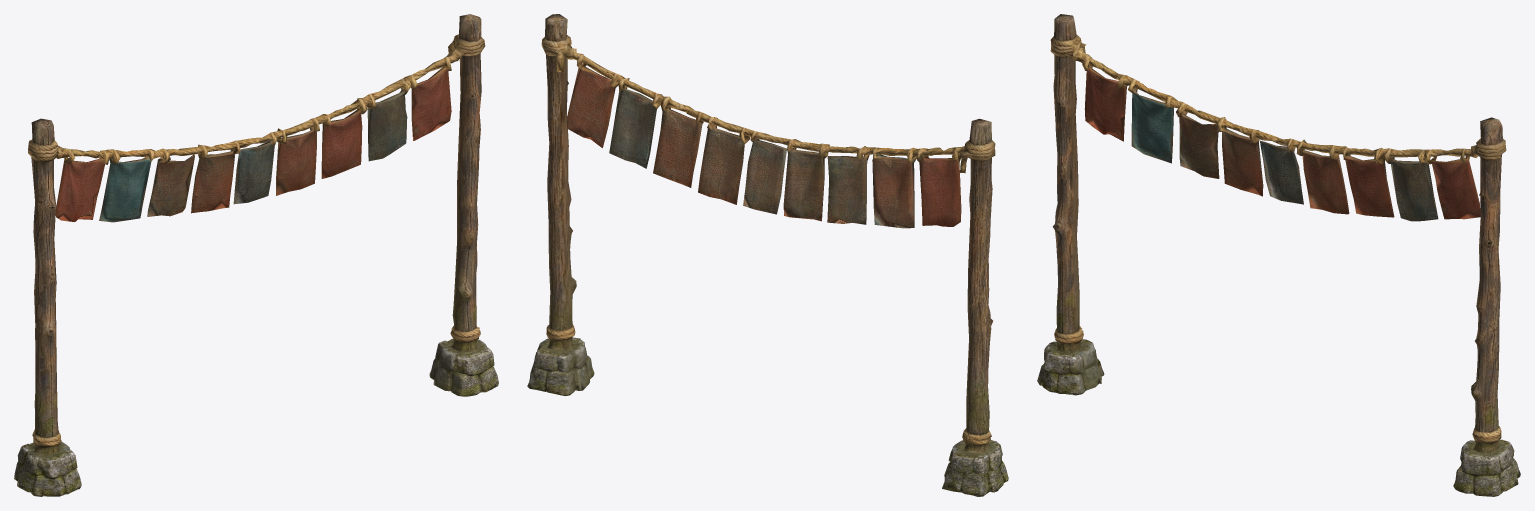
File: festival_mast.glb
3 views of the same model, side by side, from view 1: azimuth 30°, elevation 25°; view 2: azimuth 150°, elevation 25°; view 3: azimuth 330°, elevation 25° (orthographic).
Parts seen in each view (by area): view 1: prayer flag arch 3d model; view 2: prayer flag arch 3d model; view 3: prayer flag arch 3d model.
Boxes of the visible parts, <box> form: prayer flag arch 3d model: <box>14,14,498,496</box>; prayer flag arch 3d model: <box>527,14,1008,496</box>; prayer flag arch 3d model: <box>1037,14,1520,496</box>.
Size of the model in its own units: 6.49 by 4.8 by 0.798.
1 material, 1 textured.
